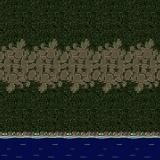Interaction: (0, 123, 160, 144)
Slow: (0, 138, 159, 160)
